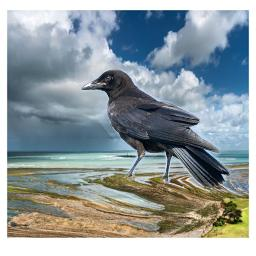Crow: (81, 69, 231, 188)
